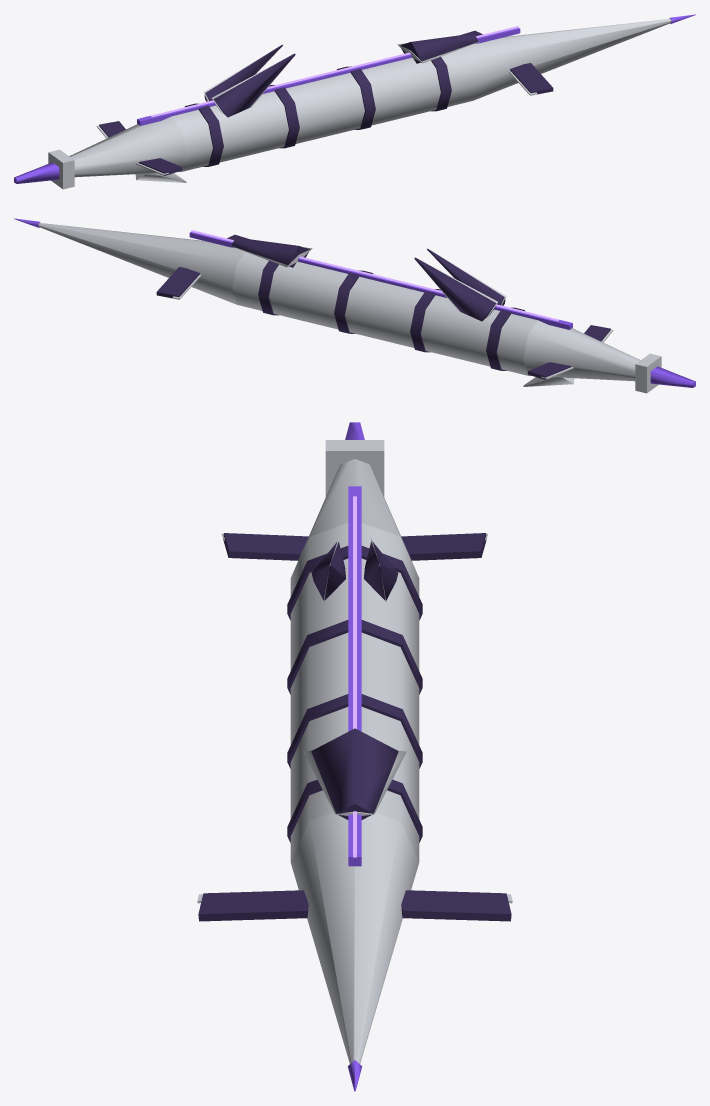
File: abyssal-submersible-hadron.glb
3 renders of one model, top to bottom at view 1: azimuth 30°, elevation 25°; view 2: azimuth 150°, elevation 25°; view 3: azimuth 270°, elevation 25°, orthographic. The views are drawn at different scales.
Parts seen in each view (by area): view 1: hull_mid, bow_spear, stern_cone, dorsal_blade_s, core_ridge, sail, dorsal_blade_p, plane_fore_s, press_band_1, press_band_3, press_band_2, drive_collar (+5 smaller); view 2: hull_mid, bow_spear, stern_cone, dorsal_blade_p, core_ridge, sail, dorsal_blade_s, plane_fore_p, press_band_1, press_band_3, press_band_2, drive_collar (+5 smaller); view 3: hull_mid, bow_spear, sail, stern_cone, plane_fore_p, plane_fore_s, core_ridge, plane_aft_p, plane_aft_s, drive_collar, press_band_1, press_band_2 (+5 smaller).
Boxes of the visible parts, x1,y1,x2,y2 form: hull_mid: (172, 47, 477, 171); bow_spear: (465, 19, 671, 100); stern_cone: (69, 116, 186, 177); dorsal_blade_s: (213, 53, 295, 117); core_ridge: (137, 28, 520, 125); sail: (400, 33, 478, 63); dorsal_blade_p: (204, 45, 282, 101); plane_fore_s: (510, 63, 553, 94); press_band_1: (337, 66, 375, 129); press_band_3: (185, 103, 223, 166); press_band_2: (269, 85, 299, 148); drive_collar: (48, 149, 74, 189); hull_mid: (232, 251, 537, 375); bow_spear: (38, 223, 244, 304); stern_cone: (523, 320, 640, 381); dorsal_blade_p: (414, 257, 496, 321); core_ridge: (189, 232, 572, 329); sail: (231, 237, 309, 267); dorsal_blade_s: (427, 249, 505, 305); plane_fore_p: (156, 267, 199, 298); press_band_1: (334, 270, 372, 333); press_band_3: (486, 307, 524, 370); press_band_2: (410, 289, 440, 352); drive_collar: (635, 353, 661, 393); hull_mid: (290, 522, 419, 861); bow_spear: (290, 812, 419, 1063); sail: (311, 728, 398, 819); stern_cone: (293, 459, 416, 571); plane_fore_p: (401, 890, 511, 921); plane_fore_s: (198, 890, 308, 921); core_ridge: (348, 486, 361, 866); plane_aft_p: (401, 533, 486, 560); plane_aft_s: (223, 533, 308, 560); drive_collar: (325, 440, 384, 496); press_band_1: (287, 694, 422, 768); press_band_2: (287, 620, 422, 694).
Bounding box in the file's own units: 95 × 14.56 × 19.05.
